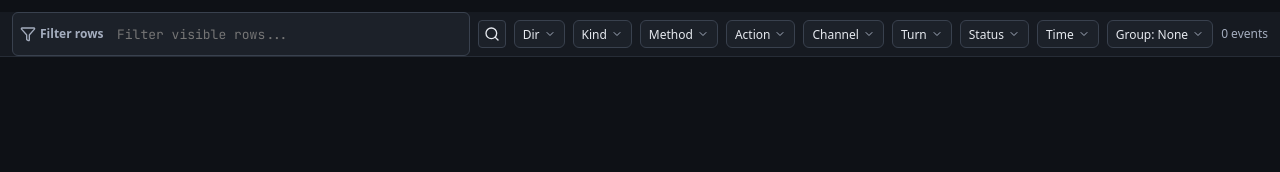
it: FilterBar › opens FacetPopover when Dir chip is clicked
What coordinates should you click on to do the following:
click the button "Dir"
I would click on:
 (539, 34)
Its box is [514,20,564,48].
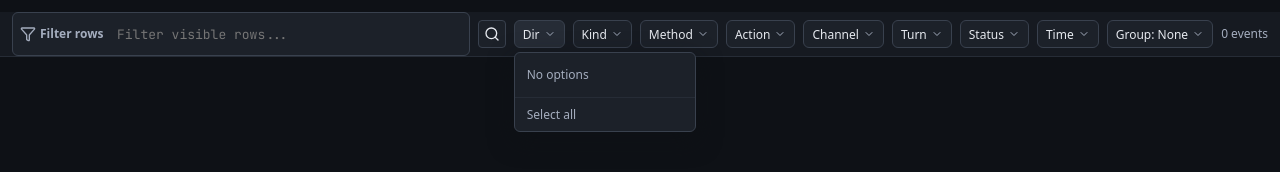
Result: the list is shown at [514,52,696,132]
